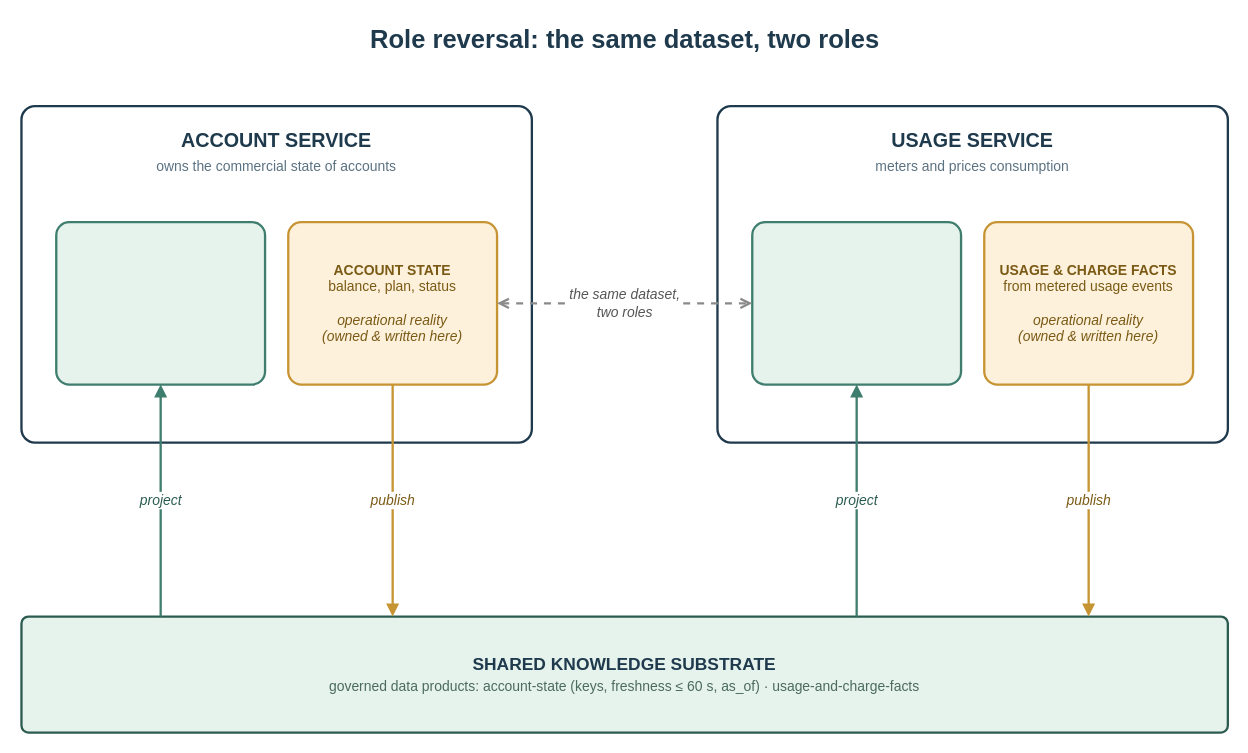
Some shapes in this 1248 by 753 pixel diagram are drawn without their labels. Each missing label, with the centre of its shape:
"ACCOUNT STATE local projection, as_of reference knowledge (read-only here)" belongs at point (856, 302).
"USAGE & CHARGE FACTS local projection reference knowledge (read-only here)" belongs at point (160, 302).
